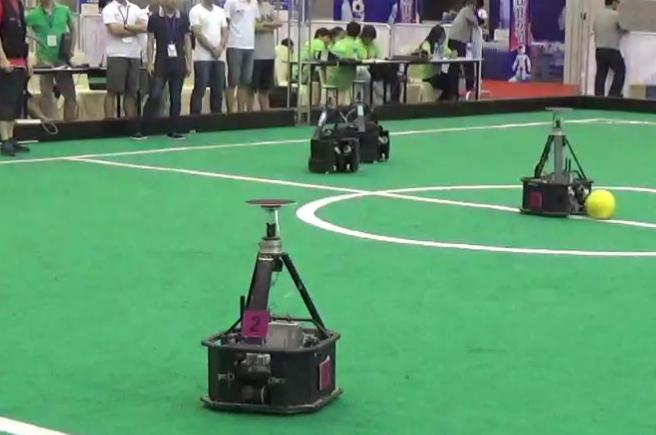robot: (196, 193, 348, 416), (518, 102, 596, 221), (306, 82, 360, 175)
